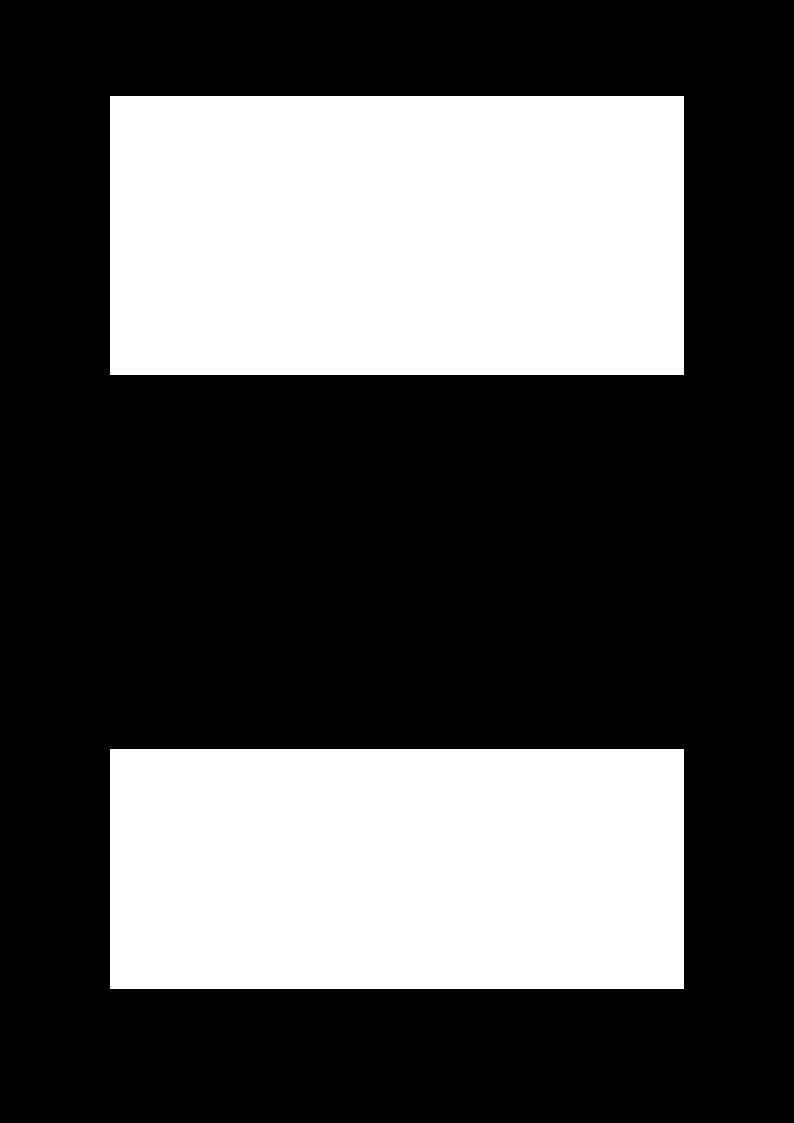table: (110, 96, 683, 374), (110, 749, 683, 988)
